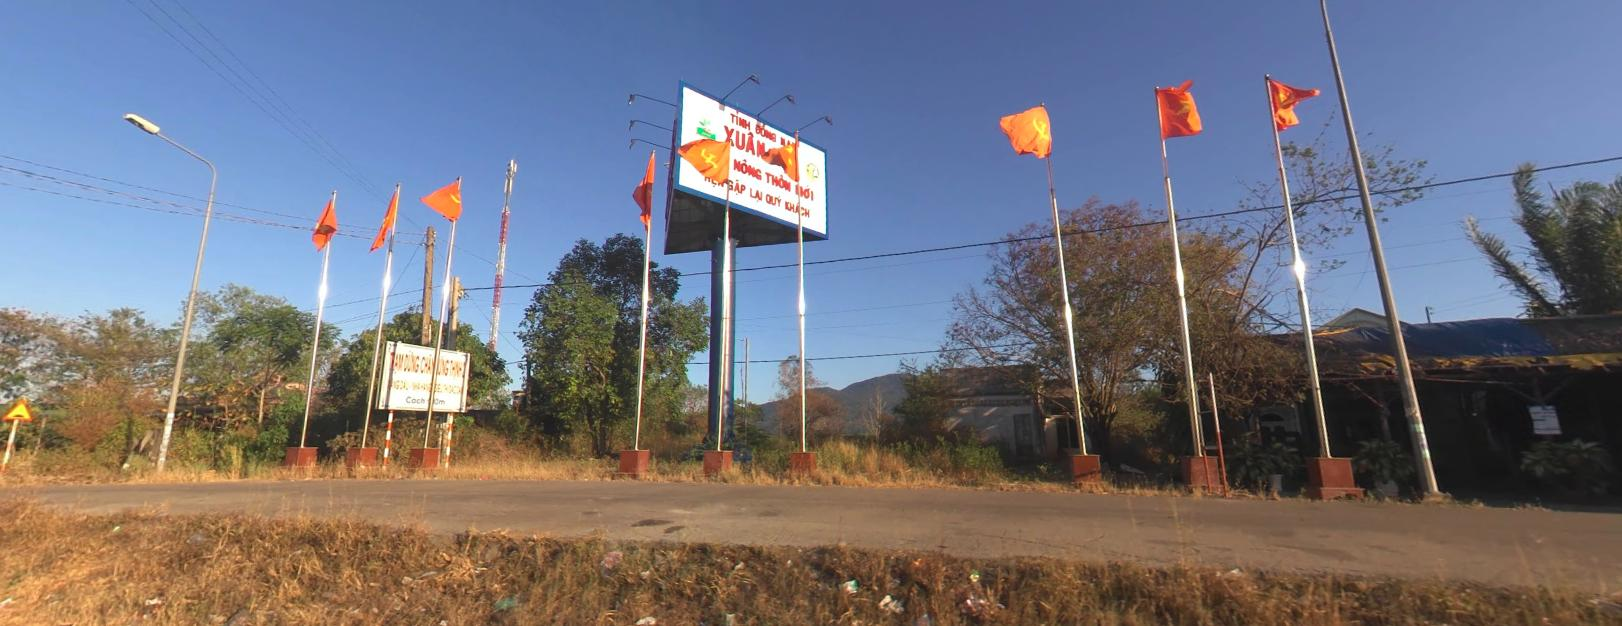Nguy hiem: (1, 395, 33, 420), (2, 397, 33, 419)
